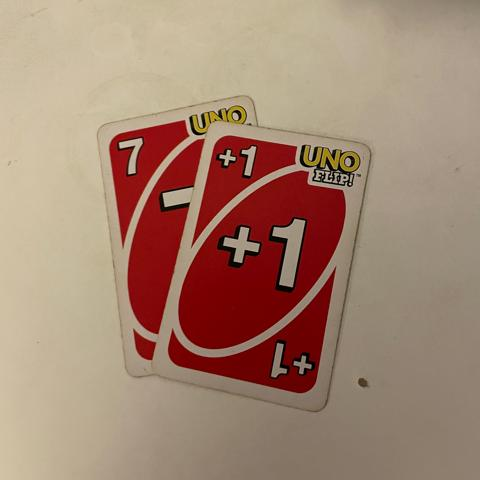lred-10: (213, 131, 261, 192)
lred-7: (109, 131, 156, 184)
